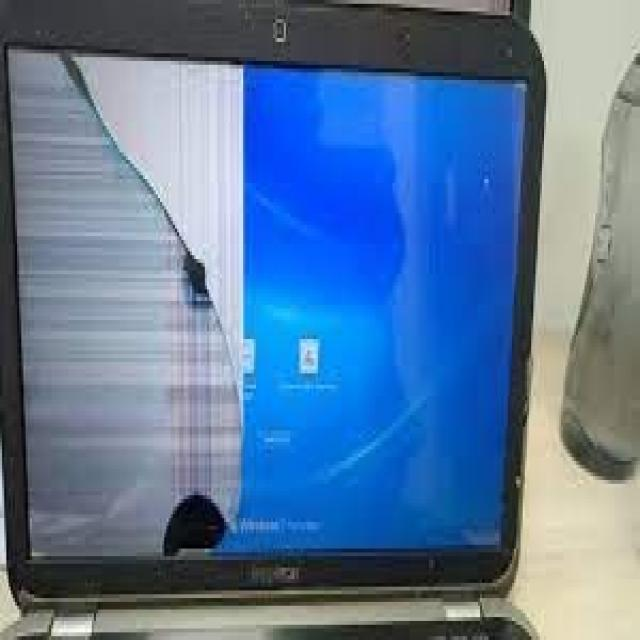Screen cracks: (6, 42, 250, 576)
